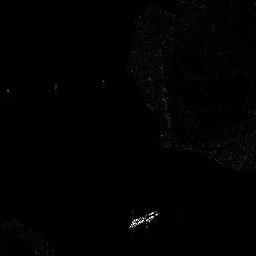ship: (128, 209, 161, 228)
